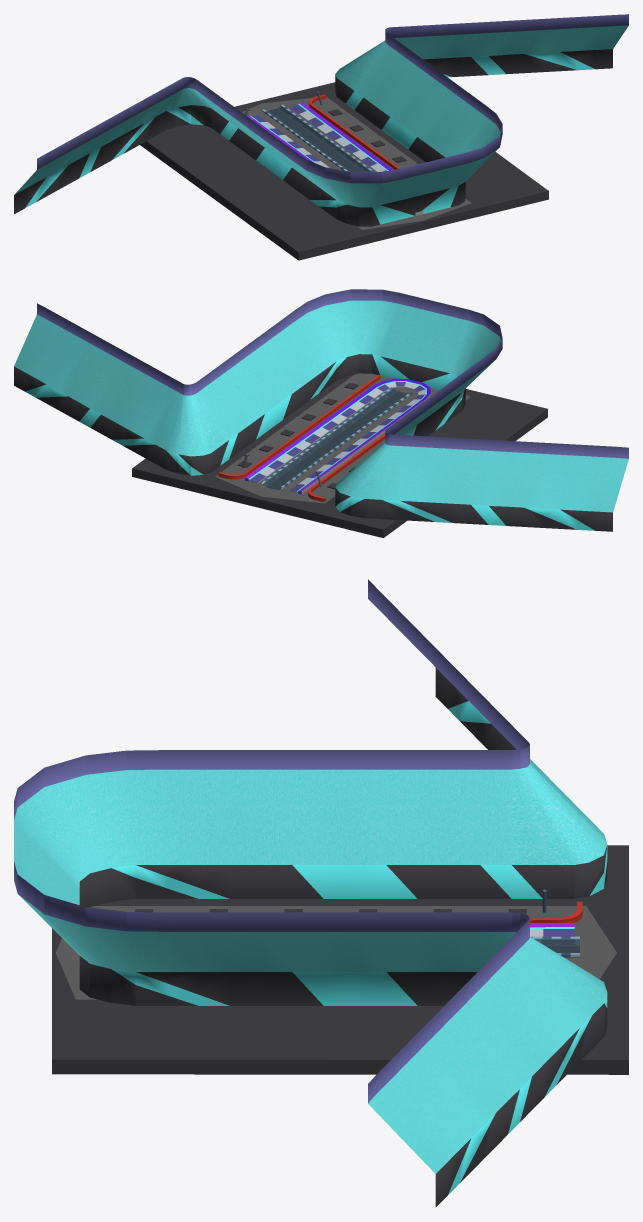
File: finish_line 2_T3.fbx
The picture shows the model from 3 angles, top to bottom: view 1: azimuth 30°, elevation 25°; view 2: azimuth 150°, elevation 25°; view 3: azimuth 270°, elevation 25°; orthographic projection. The views are drawn at different scales.
Visible parts, largest first — view 1: finish_line_blue_T3; view 2: finish_line_blue_T3; view 3: finish_line_blue_T3.
Boxes of the visible parts, left/top/right/bottom form: finish_line_blue_T3: left=14, top=14, right=628, bottom=260; finish_line_blue_T3: left=14, top=289, right=628, bottom=537; finish_line_blue_T3: left=14, top=579, right=628, bottom=1207.
Size of the model in its own units: 32303 by 4004 by 16425.
1 material, 1 textured.
